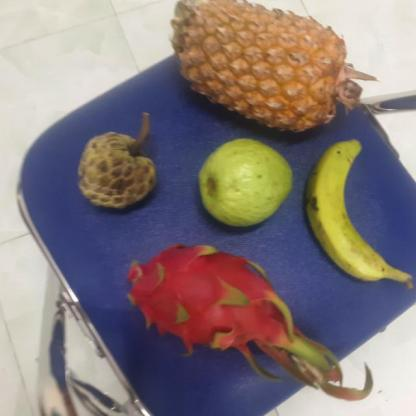annona: (74, 130, 155, 210)
banana: (302, 139, 395, 285)
guava: (192, 140, 292, 227)
pineapple: (172, 0, 344, 128)
pitaya: (119, 242, 291, 359)
